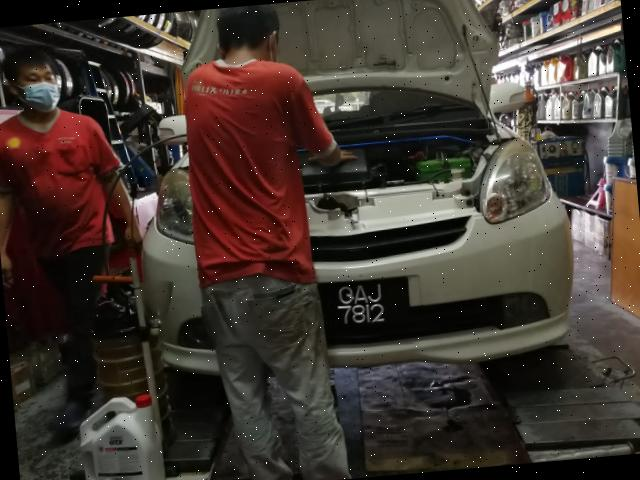License_Plate: (318, 276, 413, 340)
car: (116, 1, 584, 394)
